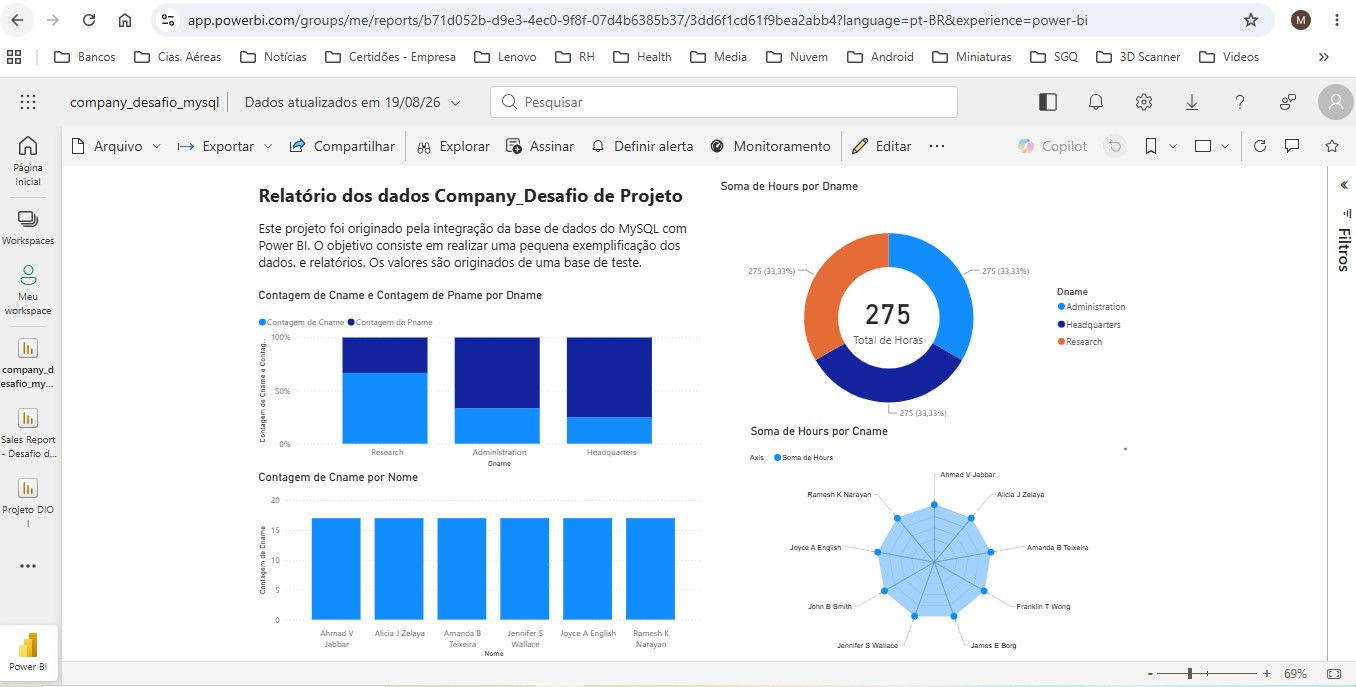

Layout of this report page (visuals, bound fields, positions):
{"tool":"powerbi","page":{"name":"Página 1","canvas":[1280,720],"ordinal":0},"visuals":[{"type":"donutChart","fields":{"Category":["company_constraints employee complete.Dname"],"Y":["Sum(company_constraints works_on.Hours)"]},"box":[671.3,18.3,608.7,373.8],"z":0},{"type":"card","fields":{"Values":["Sum(company_constraints works_on.Hours)"]},"box":[855.9,177,131.2,88.5],"z":1000},{"type":"RadarChart1446119667547","fields":{"Y":["Sum(company_constraints works_on.Hours)"],"Category":["company_constraints employee complete.Cname"]},"box":[715.5,375.3,546.2,344.8],"z":2000},{"type":"textbox","box":[556,375,150,345],"z":4000},{"type":"textbox","box":[0,18.7,655.2,185.8],"z":5000},{"type":"hundredPercentStackedColumnChart","fields":{"Category":["company_constraints employee complete.Dname"],"Y":["CountNonNull(company_constraints employee complete.Cname)","CountNonNull(company_constraints project.Pname)"]},"box":[0,177,654.5,265.5],"z":5001},{"type":"columnChart","fields":{"Category":["Gerentes_com_depents.Nome"],"Y":["CountNonNull(company_constraints employee complete.Cname)"]},"box":[0,442.4,654.5,277.7],"z":5002}]}

Visuals, with their boxes on the page's 1280x720 design canvas (x1, y1, x2, y2). These are canvas units, not pixel positions in the 1356x687 screenshot, which may show the page scaled, cropped or inside an application window:
donutChart - company_constraints employee complete.Dname x Sum(company_constraints works_on.Hours): <box>671,18,1280,392</box>
card - Sum(company_constraints works_on.Hours): <box>856,177,987,266</box>
RadarChart1446119667547 - Sum(company_constraints works_on.Hours) x company_constraints employee complete.Cname: <box>716,375,1262,720</box>
textbox: <box>556,375,706,720</box>
textbox: <box>0,19,655,204</box>
hundredPercentStackedColumnChart - company_constraints employee complete.Dname x CountNonNull(company_constraints employee complete.Cname): <box>0,177,654,442</box>
columnChart - Gerentes_com_depents.Nome x CountNonNull(company_constraints employee complete.Cname): <box>0,442,654,720</box>
